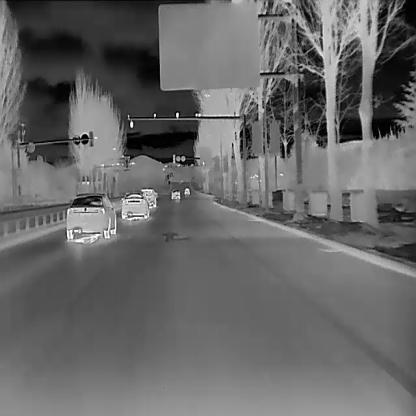car: (64, 192, 116, 240), (121, 190, 150, 218), (140, 187, 157, 206), (170, 189, 180, 199), (183, 187, 190, 194)
